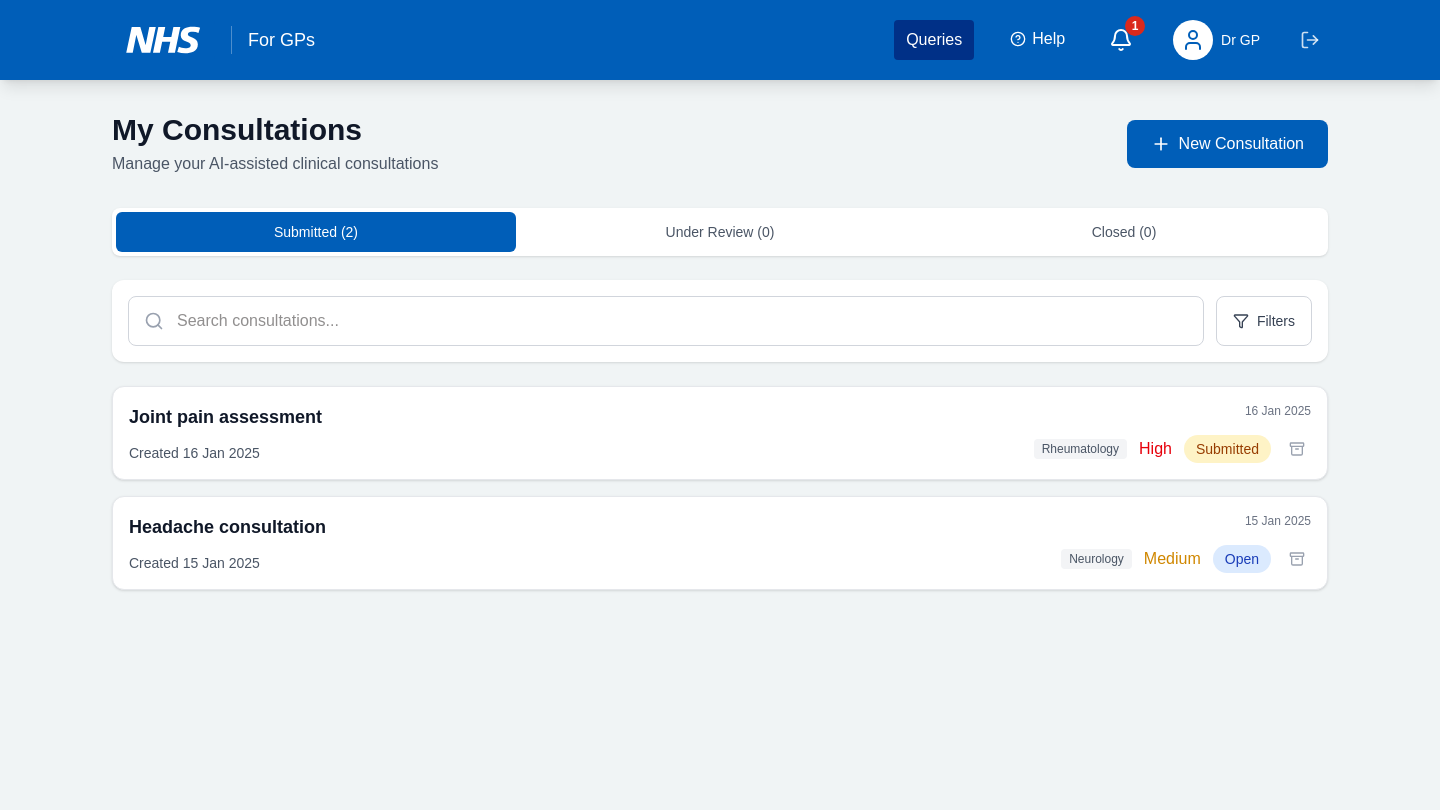
Test: GPQueriesPage › archives a chat when archive button is clicked
The width and height of the screenshot is (1440, 810).
Expected: the heading "Headache consultation" is shown, [129,517,326,537]
Click the button titled "Archive consultation" next to "Open".
click(1297, 559)  # box [1283,545,1311,573]
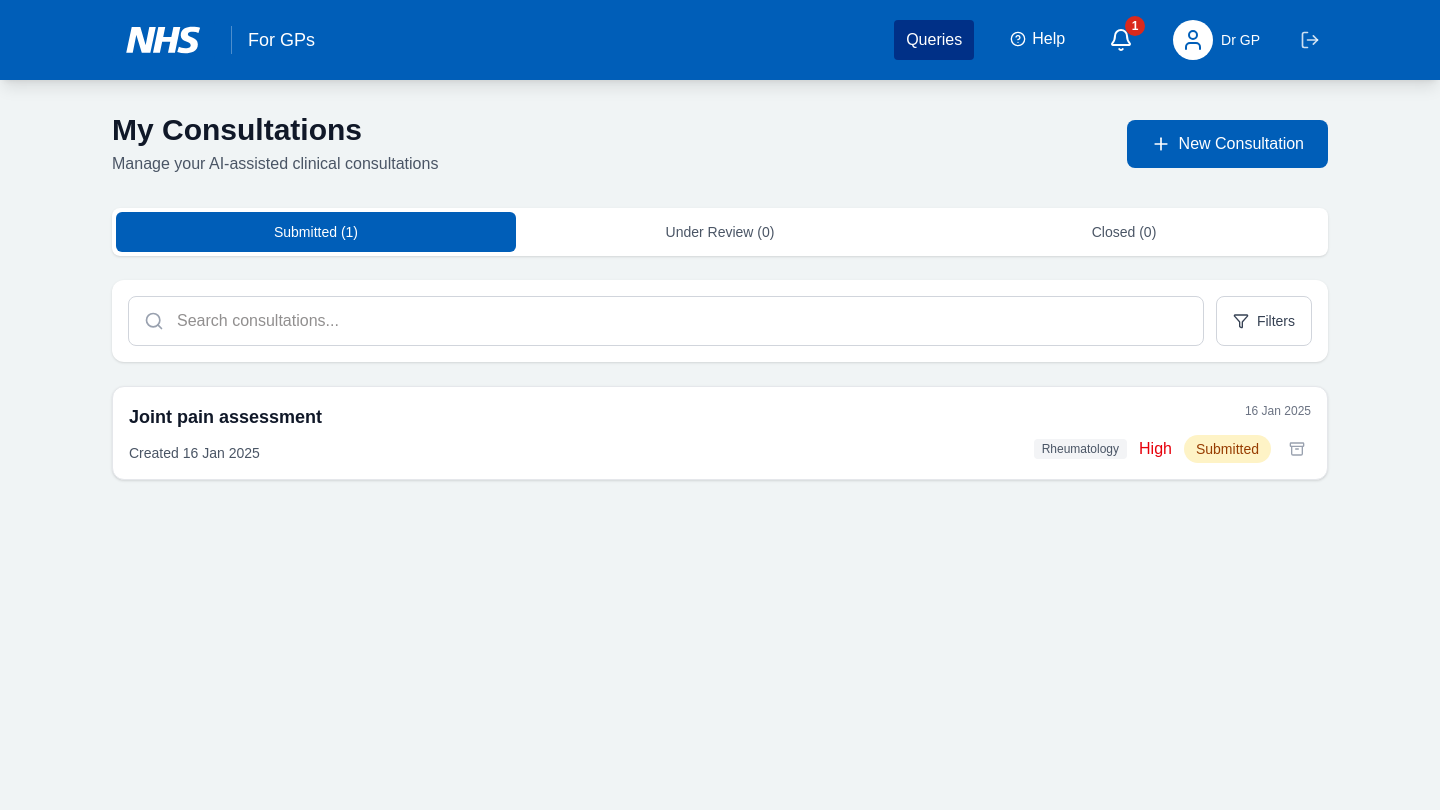
Expected: the heading "Joint pain assessment" is shown, [129,407,322,427]
Expected: the heading "Headache consultation" is gone
